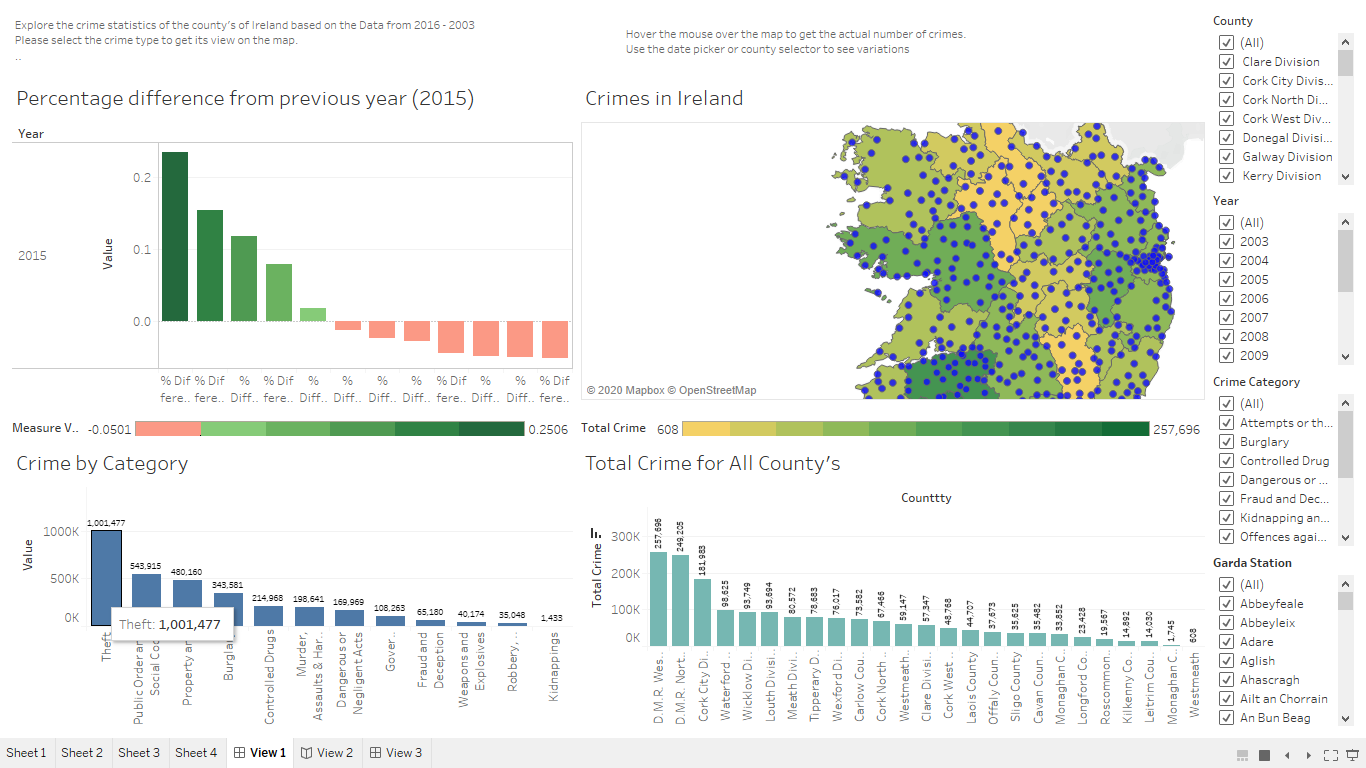

The dashboard page shown, as its layout file describes it:
{"tool":"tableau","page":{"name":"View 1","canvas":[1000,1000],"units":"permille","ordinal":0},"visuals":[{"type":"text","box":[6.9,13.5,436.3,89.7]},{"type":"text","box":[443.2,13.5,420.9,89.7]},{"type":"filter","title":"Sheet 1","param":"[federated.0unw5t90v9hy7f163qrsx1jkqsw0].[none:Calculation_455989495903973376:nk","box":[864.1,13.5,129,243.2]},{"type":"worksheet","title":"Sheet 3","mark":"Automatic","rows":["Year"],"box":[6.9,103.2,406,456]},{"type":"worksheet","title":"Sheet 1","mark":"Multipolygon","box":[412.9,103.2,451.2,456]},{"type":"filter","title":"Sheet 1","param":"[federated.0unw5t90v9hy7f163qrsx1jkqsw0].[none:Year:ok]","box":[864.1,256.8,129,243.2]},{"type":"filter","title":"Sheet 1","param":"[federated.0unw5t90v9hy7f163qrsx1jkqsw0].[none:Type:nk]","box":[864.1,500,129,243.2]},{"type":"legend","title":"Sheet 3","param":"[federated.0unw5t90v9hy7f163qrsx1jkqsw0].[Multiple Values]","box":[6.9,559.2,406,36.9]},{"type":"legend","title":"Sheet 1","param":"[federated.0unw5t90v9hy7f163qrsx1jkqsw0].[usr:Calculation_1330813723094732812:qk","box":[412.9,559.2,451.2,36.9]},{"type":"worksheet","title":"Sheet 4","mark":"Automatic","box":[6.9,596.1,406,390.4]},{"type":"worksheet","title":"Sheet 2","mark":"Automatic","rows":["Calculation_1330813723094732812"],"cols":["Calculation_1482247260621324288"],"box":[412.9,596.1,451.2,390.4]},{"type":"filter","title":"Sheet 1","param":"[federated.0unw5t90v9hy7f163qrsx1jkqsw0].[none:Station:nk]","box":[864.1,743.2,129,243.3]}]}

Visuals, with their boxes on the dashboard's canvas, which has no fixed pixel size, in thousandths of its width and height (x1, y1, x2, y2). These are canvas units, not pixel positions in the 1366x768 screenshot, which may show the page scaled, cropped or inside an application window:
text: 7,14,443,103
text: 443,14,864,103
"Sheet 1" filter: 864,14,993,257
"Sheet 3" worksheet: 7,103,413,559
"Sheet 1" worksheet (Multipolygon marks): 413,103,864,559
"Sheet 1" filter: 864,257,993,500
"Sheet 1" filter: 864,500,993,743
"Sheet 3" legend: 7,559,413,596
"Sheet 1" legend: 413,559,864,596
"Sheet 4" worksheet: 7,596,413,986
"Sheet 2" worksheet: 413,596,864,986
"Sheet 1" filter: 864,743,993,986
